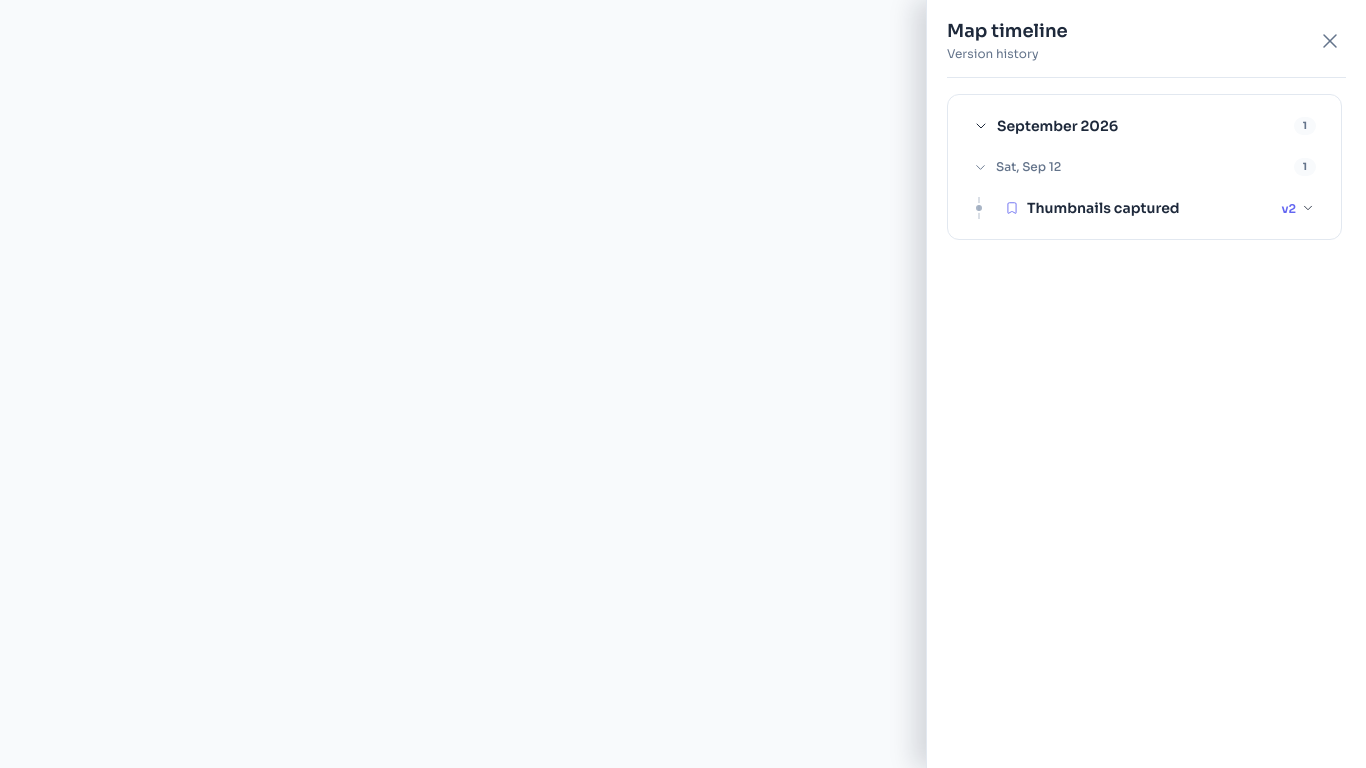
Scenario: VersionHistoryDrawer › keeps version notes collapsed until expanded
Expected: the text "Only got ~450 in the first try" is not shown
Expected: the text "Marked by New guy" is not shown
Click the button named "Show version details": [1308, 208] box top-left (1300, 200), bottom-right (1316, 216)
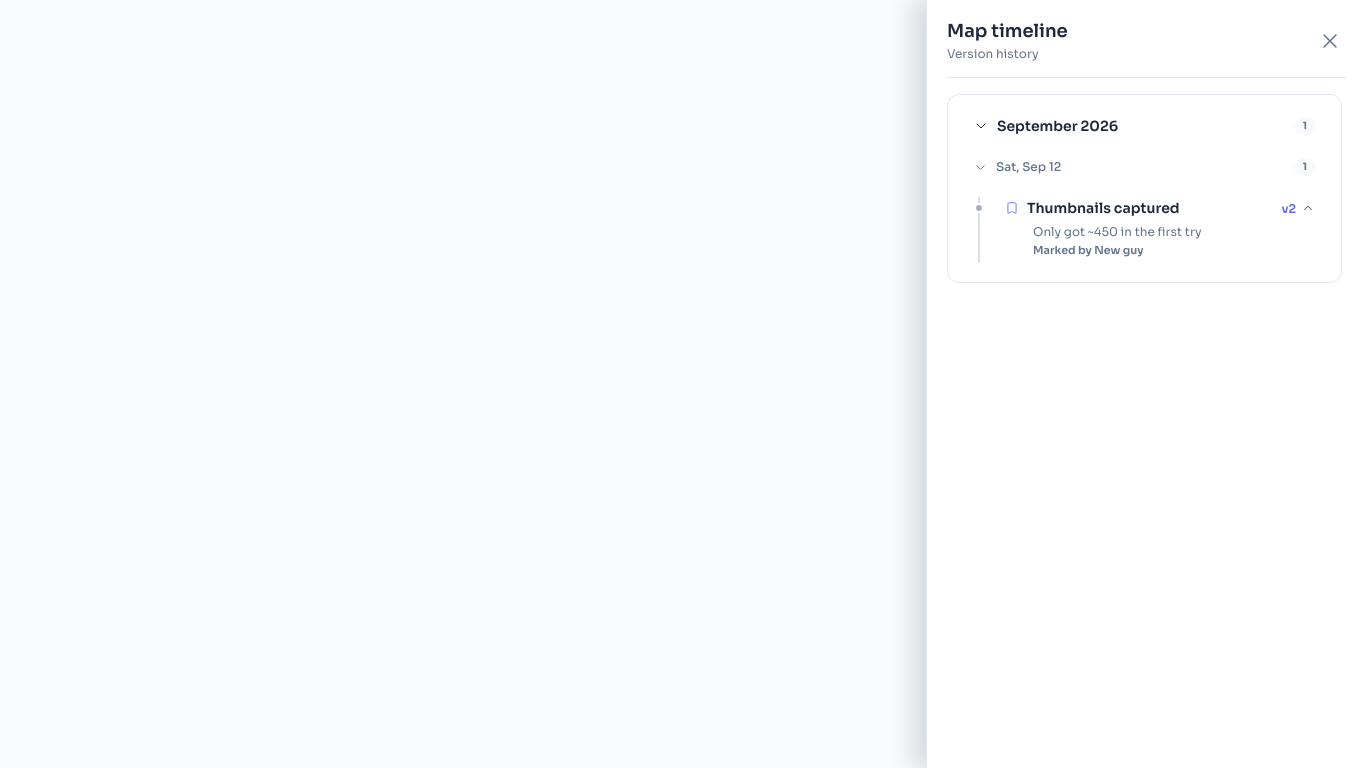
Now the text "Only got ~450 in the first try" is shown, box top-left (1033, 224), bottom-right (1202, 239)
Now the text "Marked by New guy" is shown, box top-left (1033, 243), bottom-right (1143, 257)
